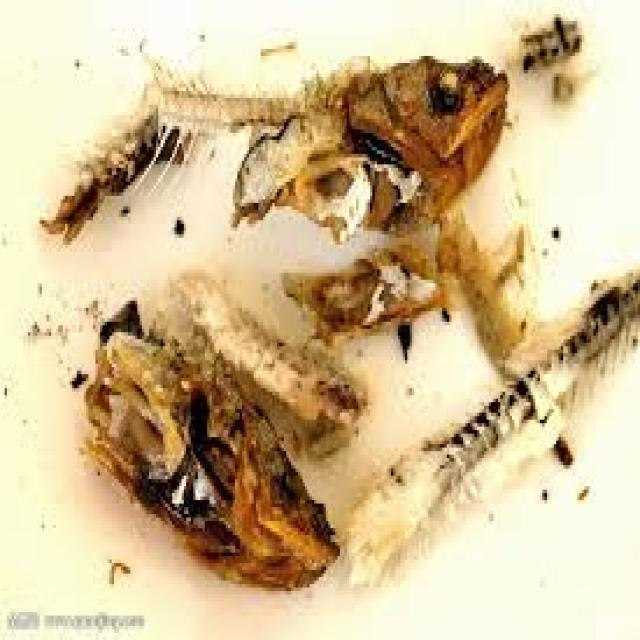food_waste: (49, 56, 638, 584)
